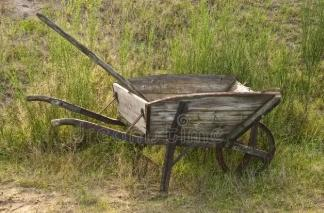BROUETTE: (23, 71, 296, 194)
